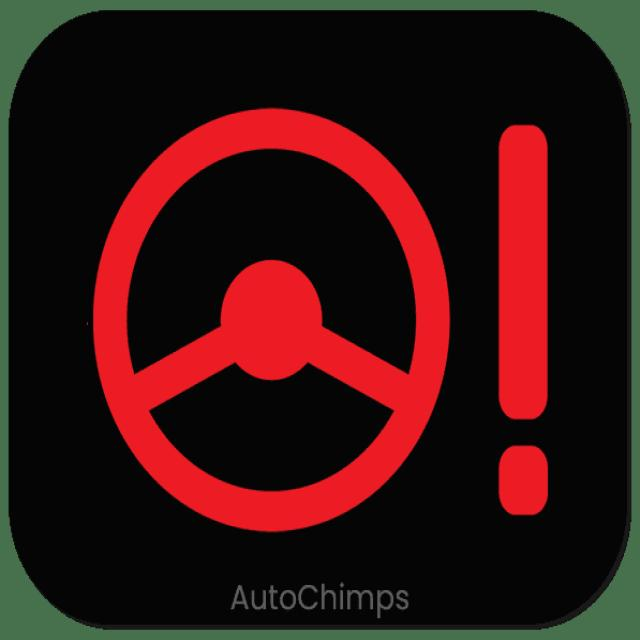kontrolka: (64, 84, 590, 538)
